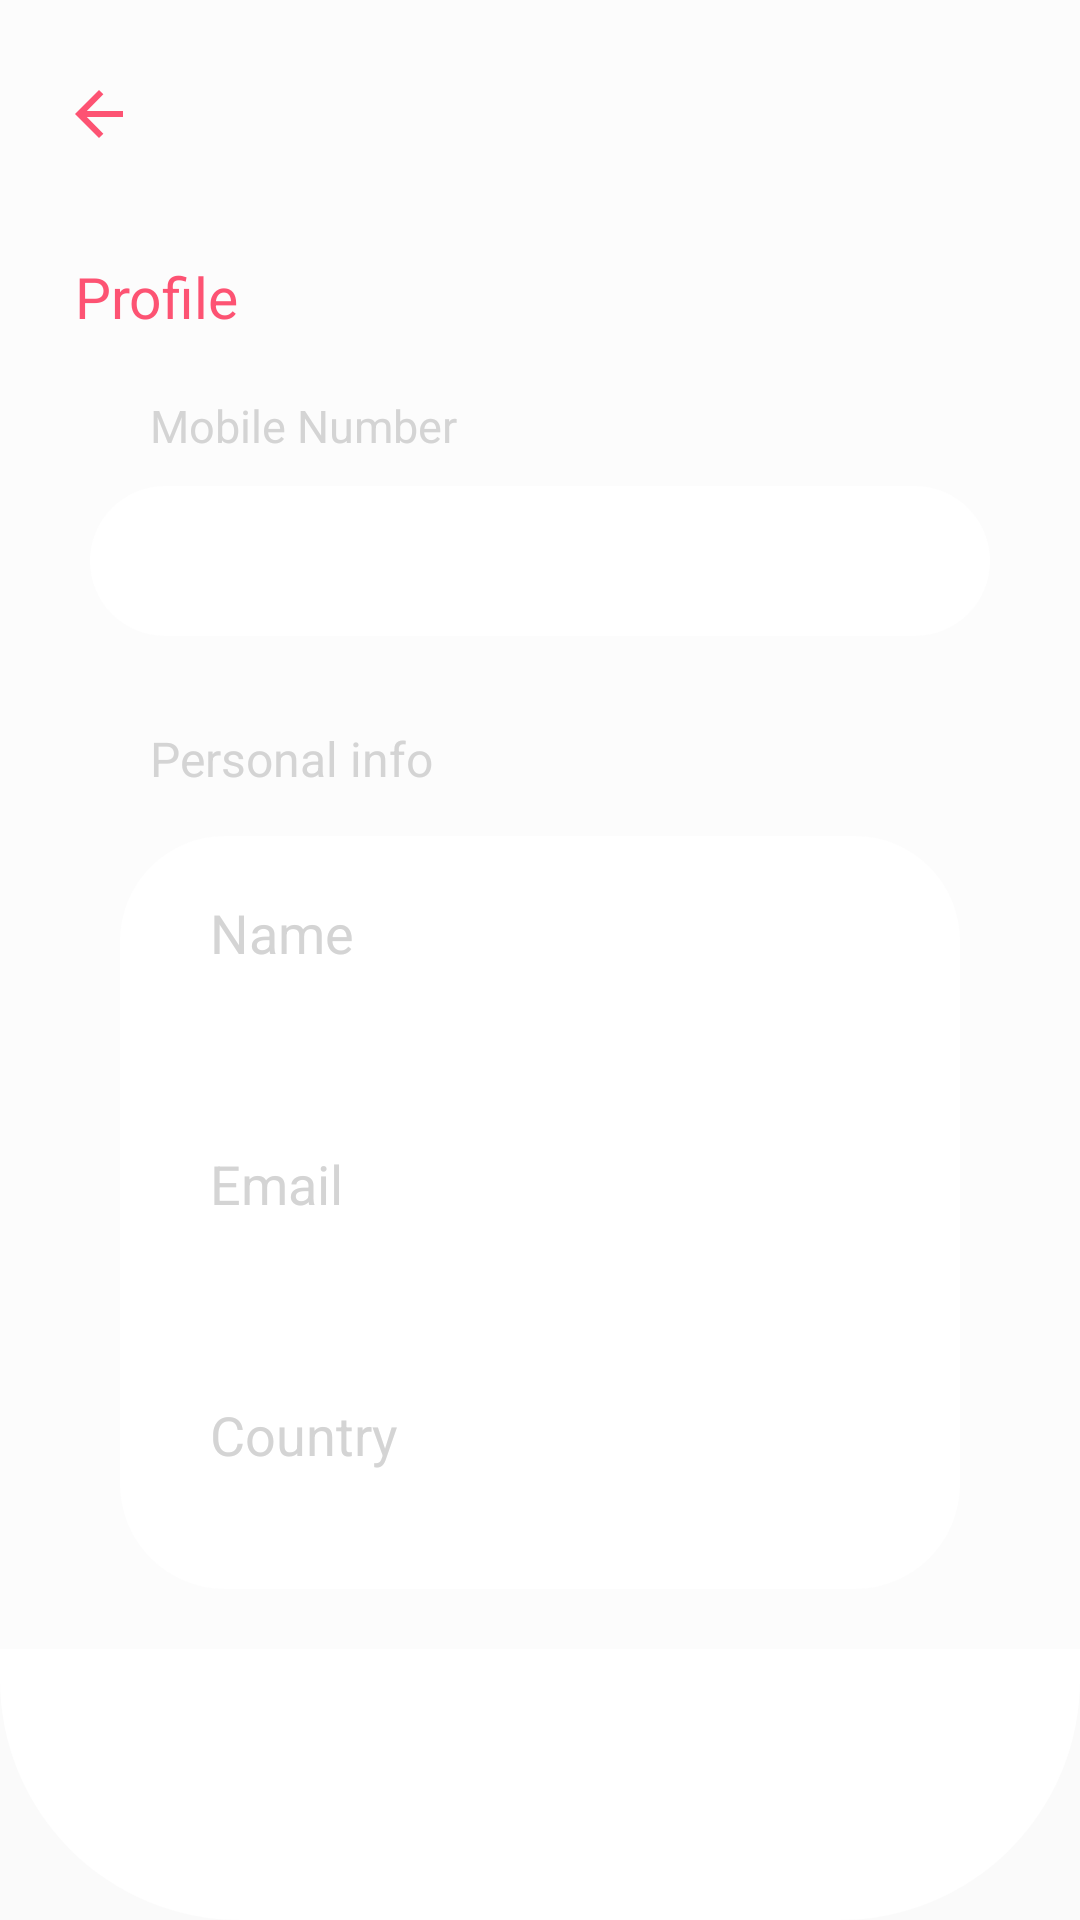

Icons on this 1080px x 1920px Android screen, each with its box as (x1, y1, x2, y2):
backward: (75, 90, 123, 138)
